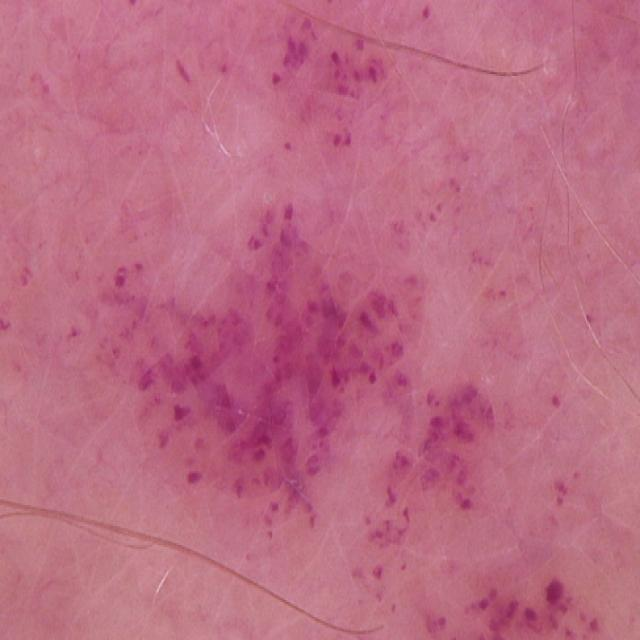Vascular Lesions: (87, 51, 635, 640)
